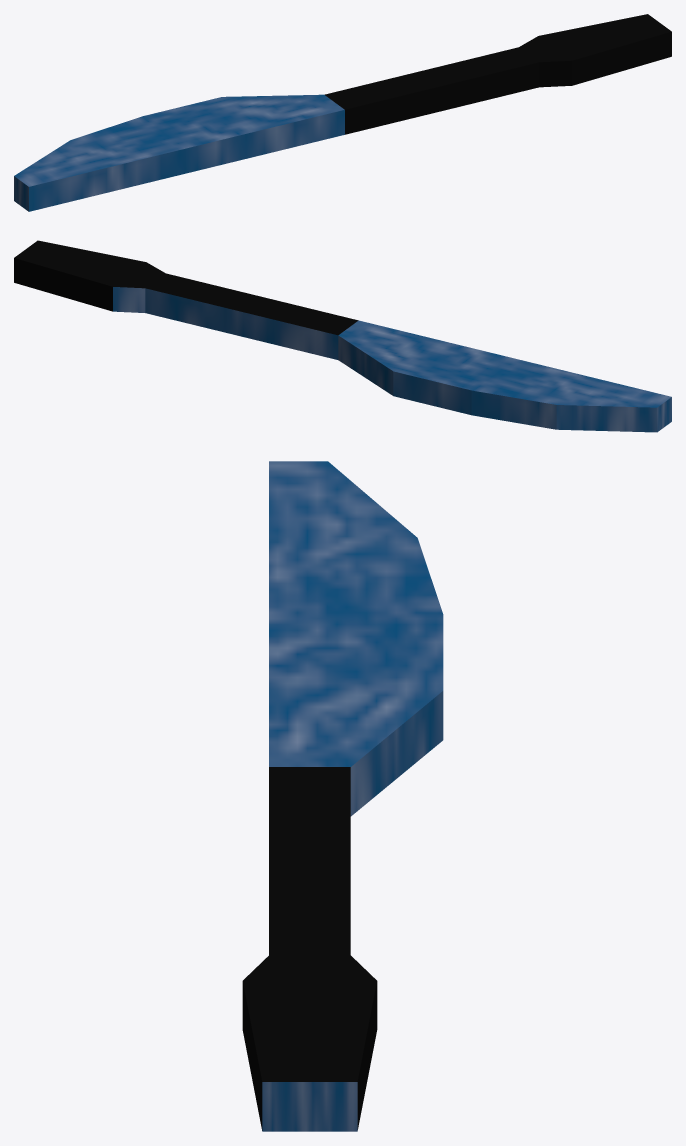
The model's file is Knife.fbx.
3 renders of one model, top to bottom at view 1: azimuth 30°, elevation 25°; view 2: azimuth 150°, elevation 25°; view 3: azimuth 270°, elevation 25°, orthographic. The views are drawn at different scales.
Parts seen in each view (by area): view 1: Knife; view 2: Knife; view 3: Knife.
Boxes of the visible parts, left/top/right/bottom form: Knife: left=14, top=14, right=671, bottom=211; Knife: left=14, top=240, right=671, bottom=432; Knife: left=242, top=461, right=443, bottom=1131.
Bounding box in the file's own units: 215 × 8 × 29.29.
